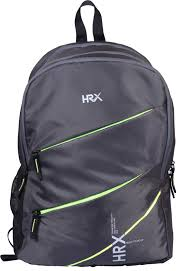backpack: (0, 0, 176, 267)
